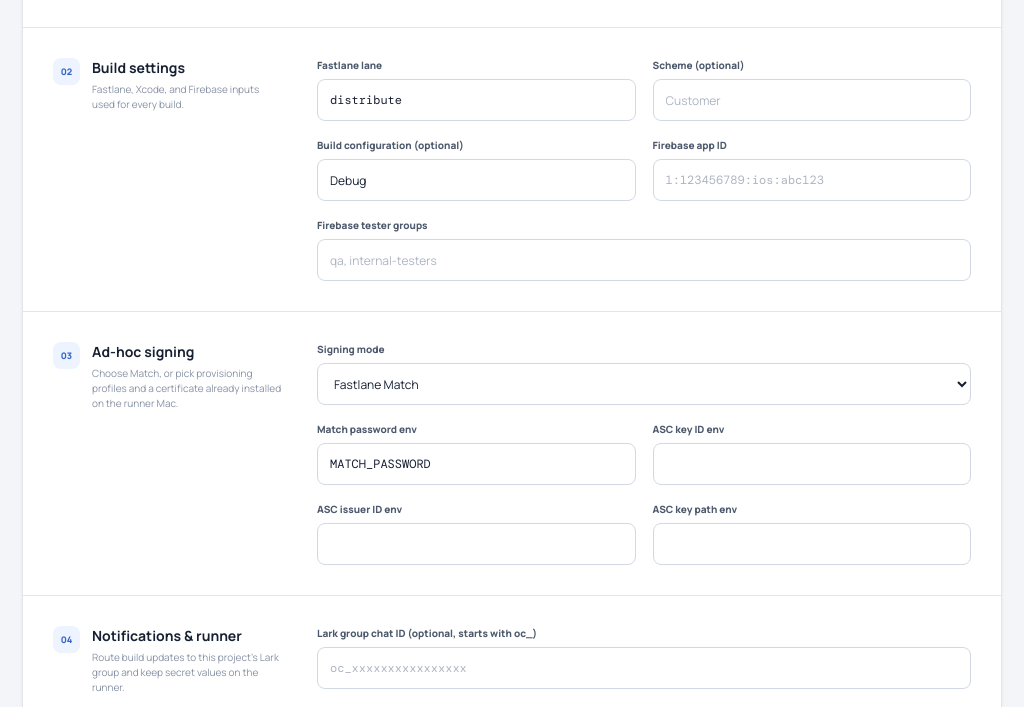
ProjectFormPage manual signing › shows an error when installed signing assets cannot be loaded
(page scrolled)
Select "Manual signing" in the dropdown labelled "Signing mode" at (644, 384), box [317, 364, 971, 406]
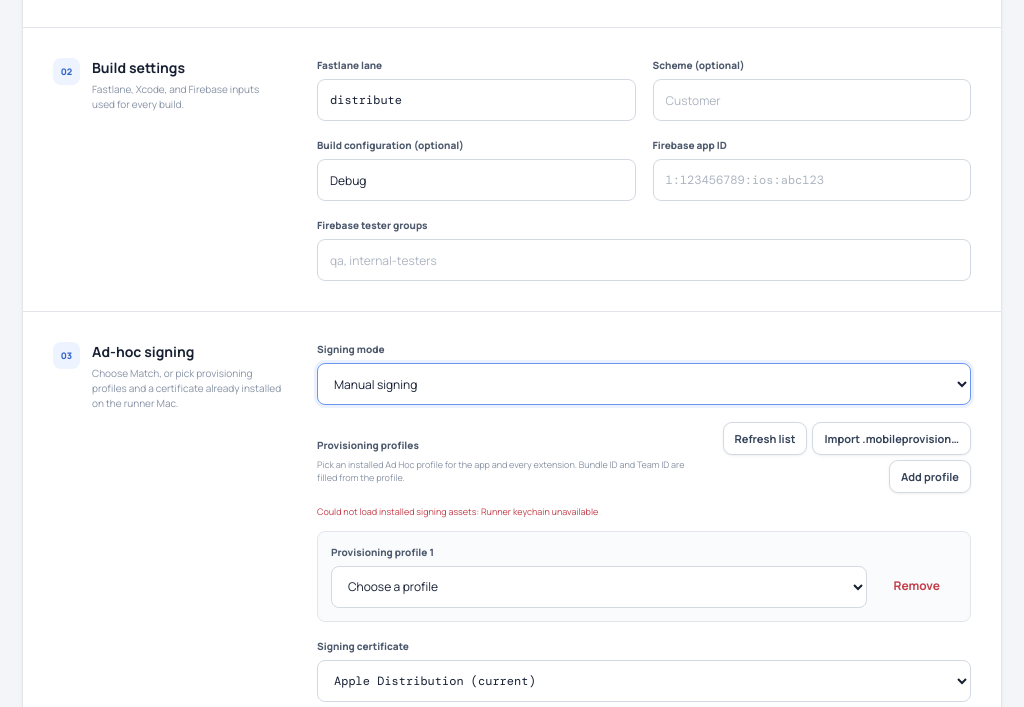
Expected: the message shows "Runner keychain unavailable", [481, 506, 598, 518]
